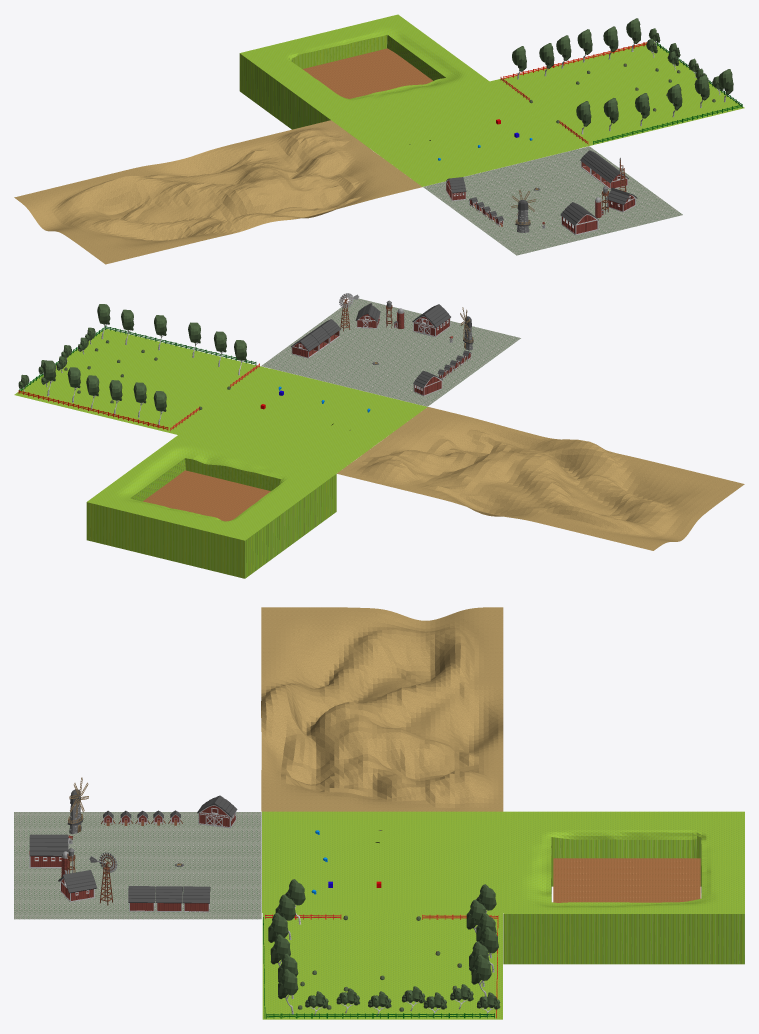
The picture shows the model from 3 angles, top to bottom: view 1: azimuth 30°, elevation 25°; view 2: azimuth 150°, elevation 25°; view 3: azimuth 270°, elevation 25°; orthographic projection. The views are drawn at different scales.
Parts seen in each view (by area): view 1: dessert, ground, lakeGround, forest, village, Buildings, lake, Fence.001; view 2: dessert, lakeGround, ground, forest, village, Buildings, lake, Fence; view 3: dessert, lakeGround, ground, village, forest, Buildings, lake, Fence.002.
Part boxes in pixels (<box>): dessert: <box>14,120,422,264</box>; ground: <box>329,80,578,186</box>; lakeGround: <box>239,14,489,129</box>; forest: <box>488,42,744,148</box>; village: <box>423,146,682,255</box>; Buildings: <box>446,150,637,235</box>; lake: <box>302,48,432,98</box>; Fence.001: <box>593,104,742,144</box>; dessert: <box>337,407,744,550</box>; lakeGround: <box>86,435,336,578</box>; ground: <box>177,368,427,475</box>; forest: <box>14,329,270,435</box>; village: <box>261,298,520,406</box>; Buildings: <box>291,293,473,396</box>; lake: <box>143,470,270,521</box>; Fence: <box>18,390,168,430</box>; dessert: <box>261,607,503,811</box>; lakeGround: <box>503,811,744,964</box>; ground: <box>262,811,509,912</box>; village: <box>14,812,261,919</box>; forest: <box>262,912,502,1019</box>; Buildings: <box>29,777,237,912</box>; lake: <box>553,858,700,902</box>; Fence.002: <box>266,1013,494,1018</box>.
Size of the model in its own units: 404 by 47.2 by 302.
243 materials, 6 textured.
